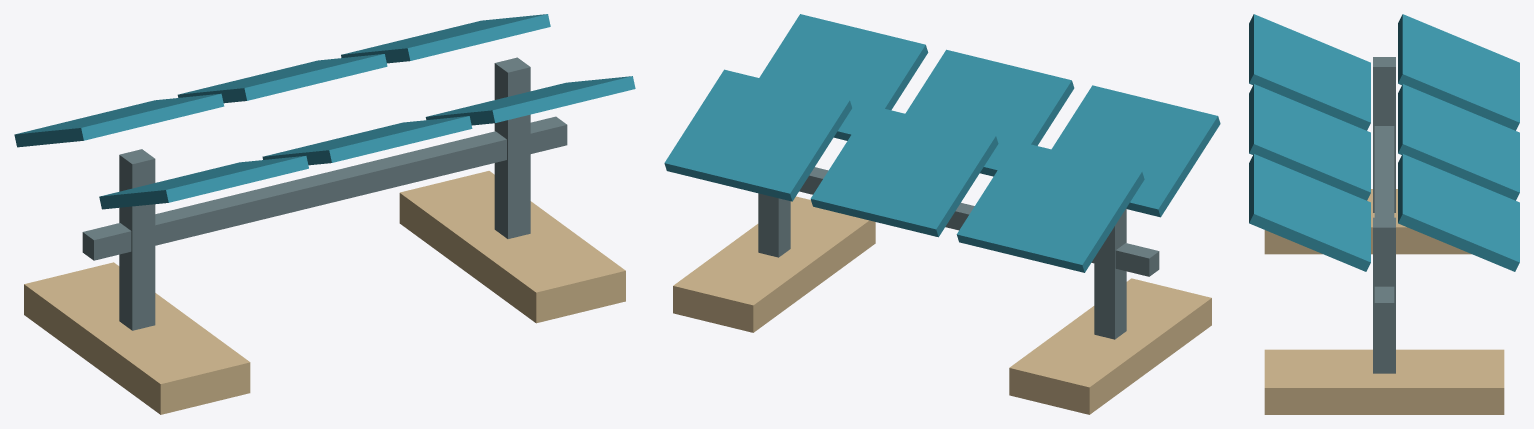
The model's file is solar-panels.source.glb.
3 renders of one model, left to right at view 1: azimuth 30°, elevation 25°; view 2: azimuth 150°, elevation 25°; view 3: azimuth 270°, elevation 25°, orthographic. The views are drawn at different scales.
Visible parts, largest first — view 1: solar-panels-foot--1.15-mesh, solar-panels-foot-1.15-mesh, solar-panels-cross-frame-mesh, solar-panels-post--1.15-mesh, solar-panels-post-1.15-mesh, solar-panels-panel--1-0.45-mesh, solar-panels-panel--1--0.45-mesh, solar-panels-panel-1-0.45-mesh, solar-panels-panel-0-0.45-mesh, solar-panels-panel-1--0.45-mesh, solar-panels-panel-0--0.45-mesh; view 2: solar-panels-panel-0--0.45-mesh, solar-panels-panel-1--0.45-mesh, solar-panels-panel--1--0.45-mesh, solar-panels-foot--1.15-mesh, solar-panels-foot-1.15-mesh, solar-panels-panel--1-0.45-mesh, solar-panels-panel-1-0.45-mesh, solar-panels-panel-0-0.45-mesh, solar-panels-post--1.15-mesh, solar-panels-cross-frame-mesh, solar-panels-post-1.15-mesh; view 3: solar-panels-foot-1.15-mesh, solar-panels-panel-1--0.45-mesh, solar-panels-panel-1-0.45-mesh, solar-panels-panel--1-0.45-mesh, solar-panels-panel-0-0.45-mesh, solar-panels-panel--1--0.45-mesh, solar-panels-panel-0--0.45-mesh, solar-panels-post-1.15-mesh, solar-panels-cross-frame-mesh, solar-panels-foot--1.15-mesh, solar-panels-post--1.15-mesh.
Boxes of the visible parts, x1,y1,x2,y2 form: solar-panels-foot--1.15-mesh: (24, 262, 250, 414); solar-panels-foot-1.15-mesh: (399, 171, 625, 323); solar-panels-cross-frame-mesh: (82, 116, 567, 260); solar-panels-post--1.15-mesh: (119, 149, 155, 330); solar-panels-post-1.15-mesh: (494, 57, 530, 238); solar-panels-panel--1-0.45-mesh: (99, 156, 308, 209); solar-panels-panel--1--0.45-mesh: (14, 93, 224, 147); solar-panels-panel-1-0.45-mesh: (425, 76, 635, 125); solar-panels-panel-0-0.45-mesh: (262, 116, 472, 165); solar-panels-panel-1--0.45-mesh: (341, 14, 550, 63); solar-panels-panel-0--0.45-mesh: (177, 54, 387, 103); solar-panels-panel-0--0.45-mesh: (810, 105, 998, 237); solar-panels-panel-1--0.45-mesh: (664, 69, 851, 201); solar-panels-panel--1--0.45-mesh: (956, 141, 1144, 272); solar-panels-foot--1.15-mesh: (1009, 278, 1211, 414); solar-panels-foot-1.15-mesh: (673, 196, 875, 332); solar-panels-panel--1-0.45-mesh: (1051, 85, 1220, 217); solar-panels-panel-1-0.45-mesh: (759, 14, 928, 140); solar-panels-panel-0-0.45-mesh: (905, 49, 1074, 176); solar-panels-post--1.15-mesh: (1094, 208, 1126, 339); solar-panels-cross-frame-mesh: (799, 167, 1159, 276); solar-panels-post-1.15-mesh: (758, 193, 790, 257); solar-panels-foot-1.15-mesh: (1264, 349, 1504, 414); solar-panels-panel-1--0.45-mesh: (1398, 154, 1519, 271); solar-panels-panel-1-0.45-mesh: (1249, 154, 1370, 271); solar-panels-panel--1-0.45-mesh: (1249, 14, 1370, 130); solar-panels-panel-0-0.45-mesh: (1249, 84, 1370, 200); solar-panels-panel--1--0.45-mesh: (1398, 14, 1519, 130); solar-panels-panel-0--0.45-mesh: (1398, 84, 1519, 200); solar-panels-post-1.15-mesh: (1373, 217, 1395, 373); solar-panels-cross-frame-mesh: (1374, 126, 1394, 320); solar-panels-foot--1.15-mesh: (1264, 189, 1471, 254); solar-panels-post--1.15-mesh: (1373, 57, 1395, 212).
Bounding box in the file's own units: 2.9 × 1.34 × 1.64.
